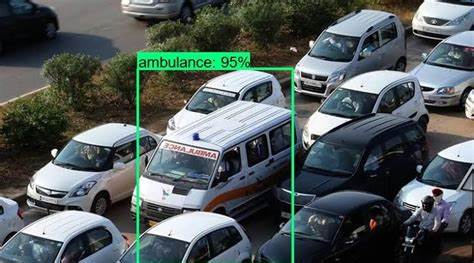ambulance: (123, 115, 278, 226)
